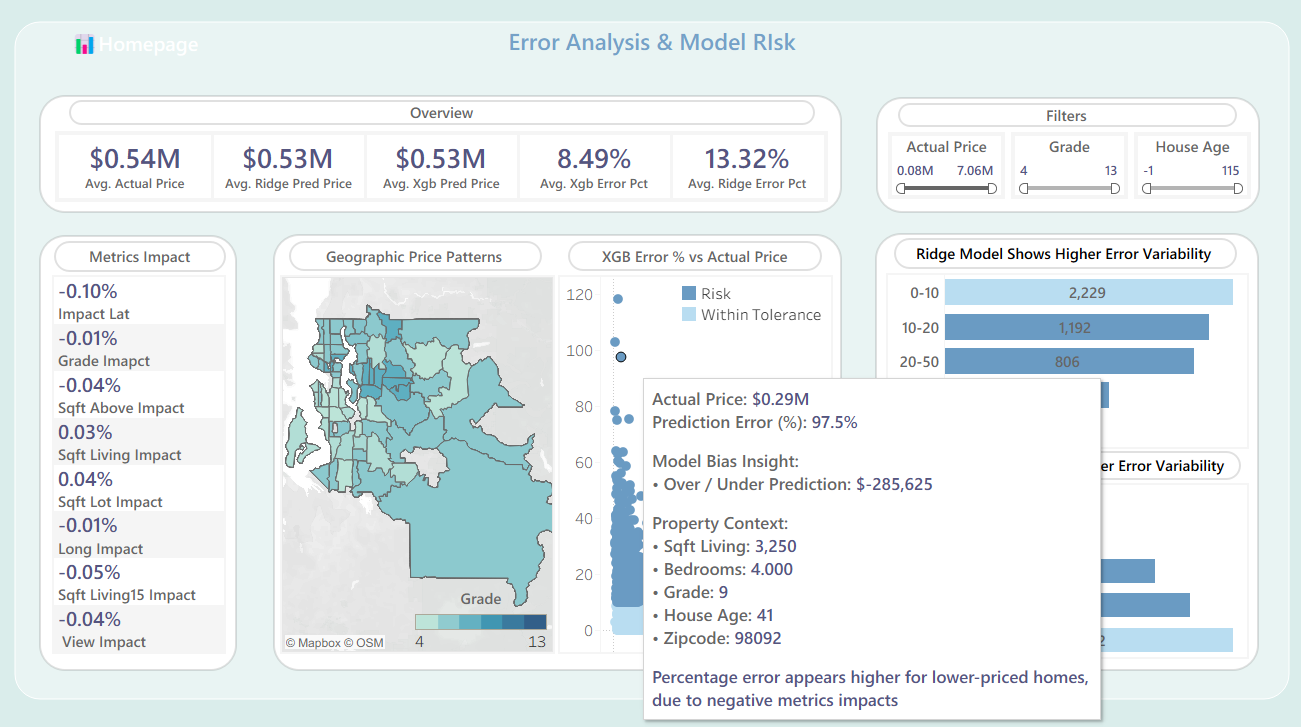

The dashboard page shown, as its layout file describes it:
{"tool":"tableau","page":{"name":"Error Analysis & Model Risk","canvas":[1000,1000],"units":"permille","ordinal":0},"visuals":[{"type":"worksheet","title":"Back 2","mark":"Automatic","box":[0,0,1000,1000]},{"type":"text","box":[47.4,27.8,902.3,47.2]},{"type":"dashboard-object","box":[54.1,33.3,111.3,38.9]},{"type":"filter","title":"Error % vs Price","param":"[federated.0pb6tqq0hun84y1cwjt1z028dbxy].[none:actual_price:qk]","box":[674.4,175,91,98.6]},{"type":"filter","title":"KPI Tiles","param":"[federated.0pb6tqq0hun84y1cwjt1z028dbxy].[none:grade:qk]","box":[766.9,175,91,98.6]},{"type":"filter","title":"KPI Tiles","param":"[federated.0pb6tqq0hun84y1cwjt1z028dbxy].[none:house_age:qk]","box":[859.4,175,91,98.6]},{"type":"worksheet","title":"KPI Tiles","mark":"Automatic","box":[49.6,176.4,581.2,98.6]},{"type":"blank","box":[166.9,176.4,2.3,97.2]},{"type":"blank","box":[281.9,176.4,2.3,97.2]},{"type":"blank","box":[397,176.4,2.3,97.2]},{"type":"blank","box":[512,176.4,2.3,97.2]},{"type":"worksheet","title":"Ridge Error % Distribution","mark":"Automatic","rows":["Calculation_0602830477926402"],"cols":["id"],"box":[674.4,373.6,272.9,244.4]},{"type":"worksheet","title":"Ridge Coefficient Effect","mark":"Automatic","box":[47.4,376.4,130.8,526.4]},{"type":"worksheet","title":"Price Map","mark":"Multipolygon","rows":["lat"],"cols":["long"],"box":[218.8,376.4,206.8,526.4]},{"type":"worksheet","title":"Error % vs Price","mark":"Automatic","rows":["xgb_error_pct"],"cols":["actual_price"],"box":[427.8,376.4,206.8,526.4]},{"type":"legend","title":"Error % vs Price","param":"[federated.0pb6tqq0hun84y1cwjt1z028dbxy].[none:Calculation_0458520059084800:nk]","box":[518.8,387.5,111.3,69.4]},{"type":"worksheet","title":"XGBoost Error % Distribution","mark":"Bar","rows":["Calculation_0602830478553091"],"cols":["id"],"box":[674.4,665.3,272.9,244.4]},{"type":"legend","title":"Price Map","param":"[federated.0pb6tqq0hun84y1cwjt1z028dbxy].[none:grade:qk]","box":[317.3,811.1,105.3,86.1]}]}

Visuals, with their boxes on the dashboard's canvas, which has no fixed pixel size, in thousandths of its width and height (x1, y1, x2, y2). These are canvas units, not pixel positions in the 1301x727 screenshot, which may show the page scaled, cropped or inside an application window:
"Back 2" worksheet: box(0, 0, 1000, 1000)
text: box(47, 28, 950, 75)
dashboard-object: box(54, 33, 165, 72)
"Error % vs Price" filter: box(674, 175, 765, 274)
"KPI Tiles" filter: box(767, 175, 858, 274)
"KPI Tiles" filter: box(859, 175, 950, 274)
"KPI Tiles" worksheet: box(50, 176, 631, 275)
blank: box(167, 176, 169, 274)
blank: box(282, 176, 284, 274)
blank: box(397, 176, 399, 274)
blank: box(512, 176, 514, 274)
"Ridge Error % Distribution" worksheet: box(674, 374, 947, 618)
"Ridge Coefficient Effect" worksheet: box(47, 376, 178, 903)
"Price Map" worksheet (Multipolygon marks): box(219, 376, 426, 903)
"Error % vs Price" worksheet: box(428, 376, 635, 903)
"Error % vs Price" legend: box(519, 388, 630, 457)
"XGBoost Error % Distribution" worksheet (Bar marks): box(674, 665, 947, 910)
"Price Map" legend: box(317, 811, 423, 897)
